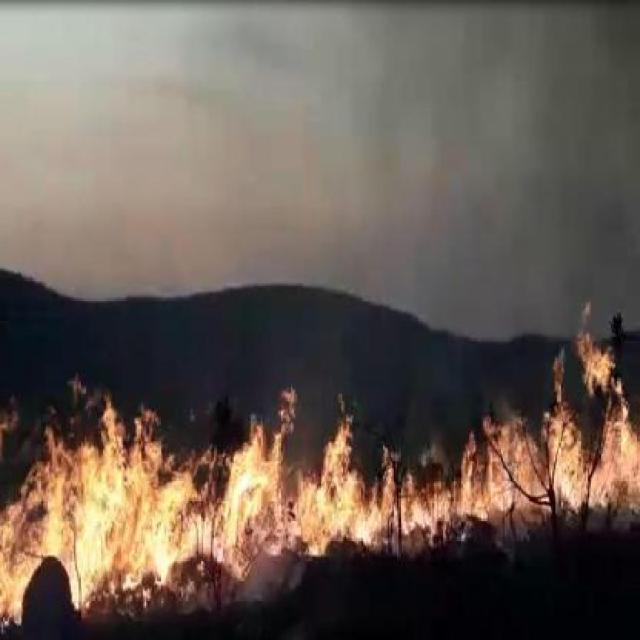Fire: (0, 392, 266, 622), (265, 389, 545, 558), (542, 312, 638, 514)
